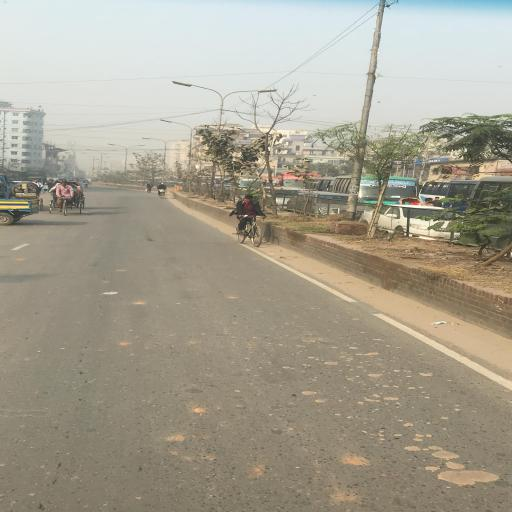bicycle: (235, 196, 268, 250), (159, 184, 168, 200), (85, 180, 90, 189)
bus: (464, 178, 511, 248), (333, 176, 419, 203), (445, 181, 481, 216), (420, 181, 449, 198), (305, 178, 337, 193), (237, 179, 268, 193)
car: (360, 205, 464, 241), (287, 192, 375, 219), (265, 188, 312, 208)
pickup: (1, 198, 41, 228)
rickshaw: (49, 183, 84, 216), (14, 181, 40, 200), (397, 196, 425, 206), (59, 178, 67, 183)
